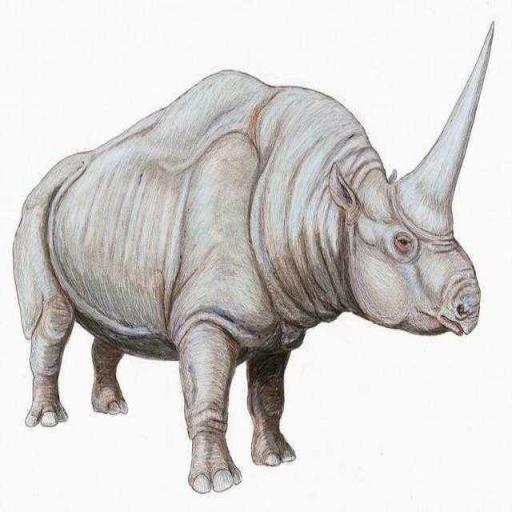Rhino: (11, 18, 495, 494)
